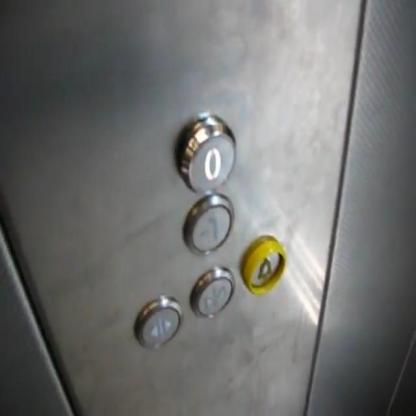-1: (181, 190, 235, 256)
0: (173, 110, 237, 195)
alarm: (239, 232, 286, 294)
close: (187, 262, 235, 320)
open: (132, 293, 183, 351)
